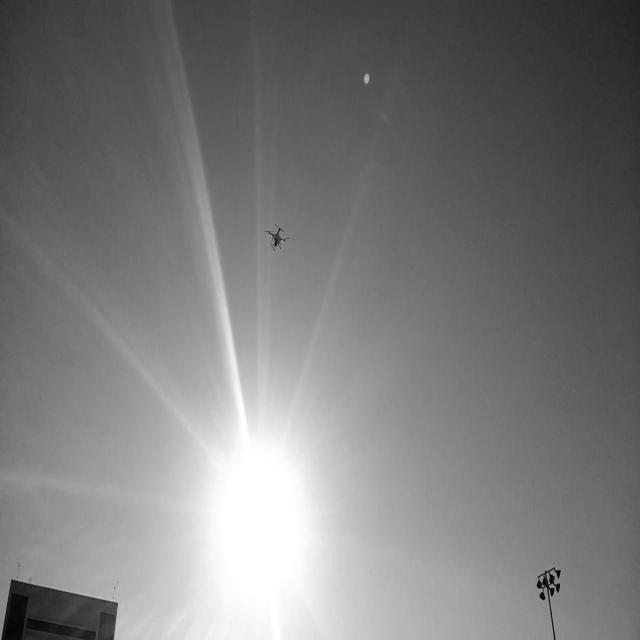drone: (264, 218, 287, 257)
